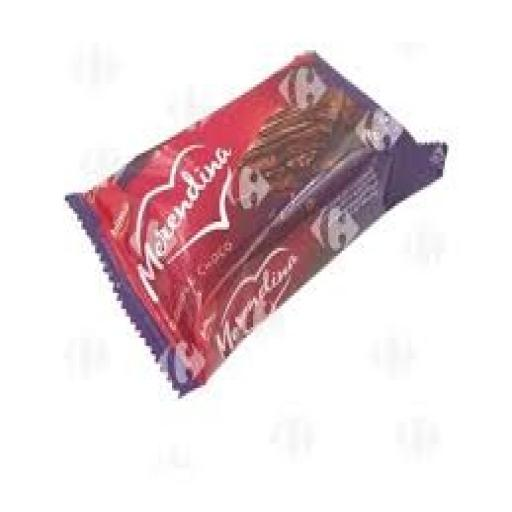merendina: (70, 51, 456, 350)
